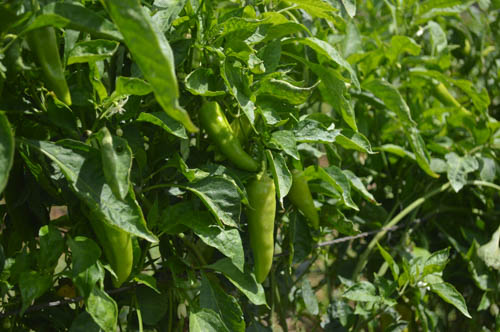ChiliPepper: (27, 30, 77, 109), (201, 103, 259, 169), (88, 213, 134, 286), (244, 180, 276, 284), (288, 167, 320, 228)
